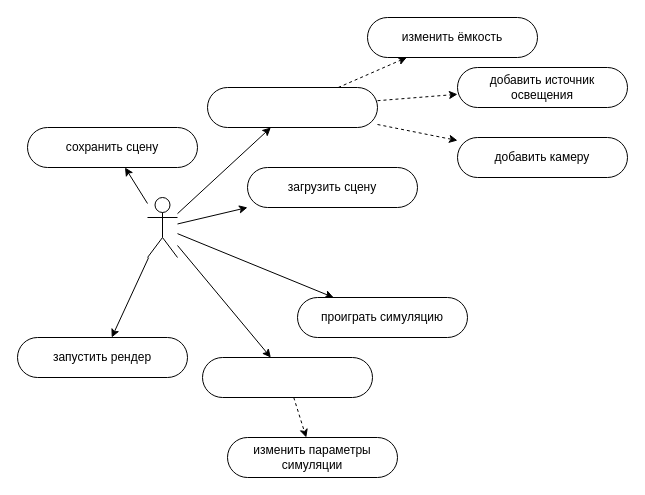
The diagram is 645 pixels wide and 495 high, and some of its shapes have lost their labels. The shapes that lost their labels are listed below. From the top down, each one's centre as x and y in pixels, then its label:
(292,107): создать новую сцену
(162,227): пользователь
(287,377): запустить симуляцию
